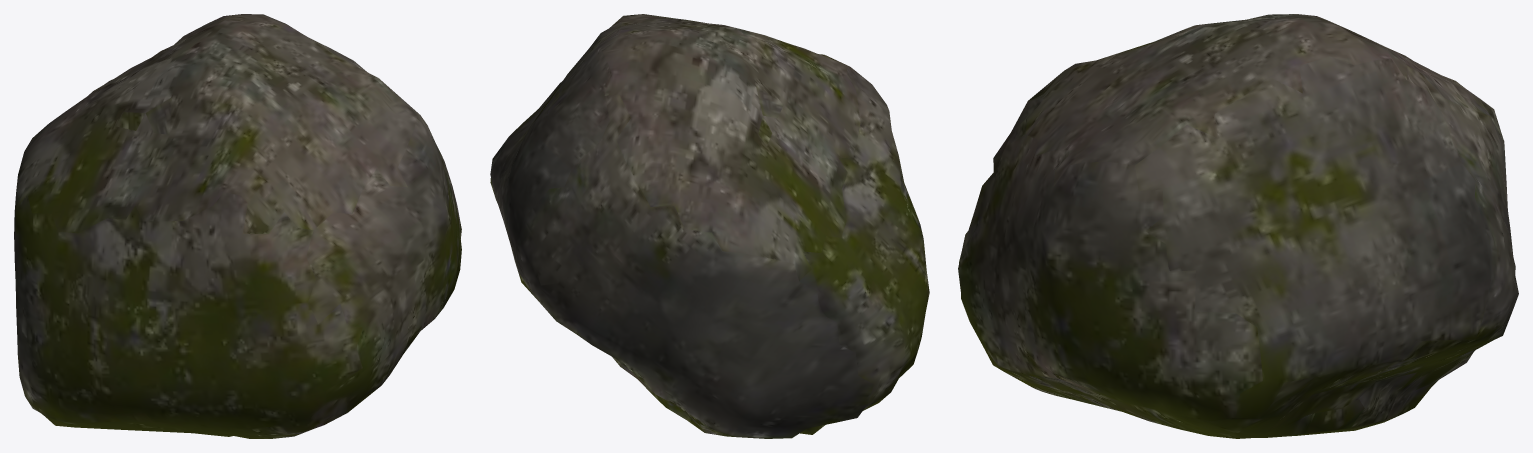
Rendered from rock3.glb.
The picture shows the model from 3 angles, left to right: view 1: azimuth 30°, elevation 25°; view 2: azimuth 150°, elevation 25°; view 3: azimuth 270°, elevation 25°; orthographic projection. The views are drawn at different scales.
Visible parts, largest first — view 1: A_Set.004; view 2: A_Set.004; view 3: A_Set.004.
Boxes of the visible parts, x1=… form: A_Set.004: x1=14, y1=14, x2=461, y2=438; A_Set.004: x1=490, y1=14, x2=929, y2=438; A_Set.004: x1=958, y1=14, x2=1518, y2=438.
Size of the model in its own units: 5.74 by 4.71 by 5.45.
Materials: 1 (1 with a texture image).
